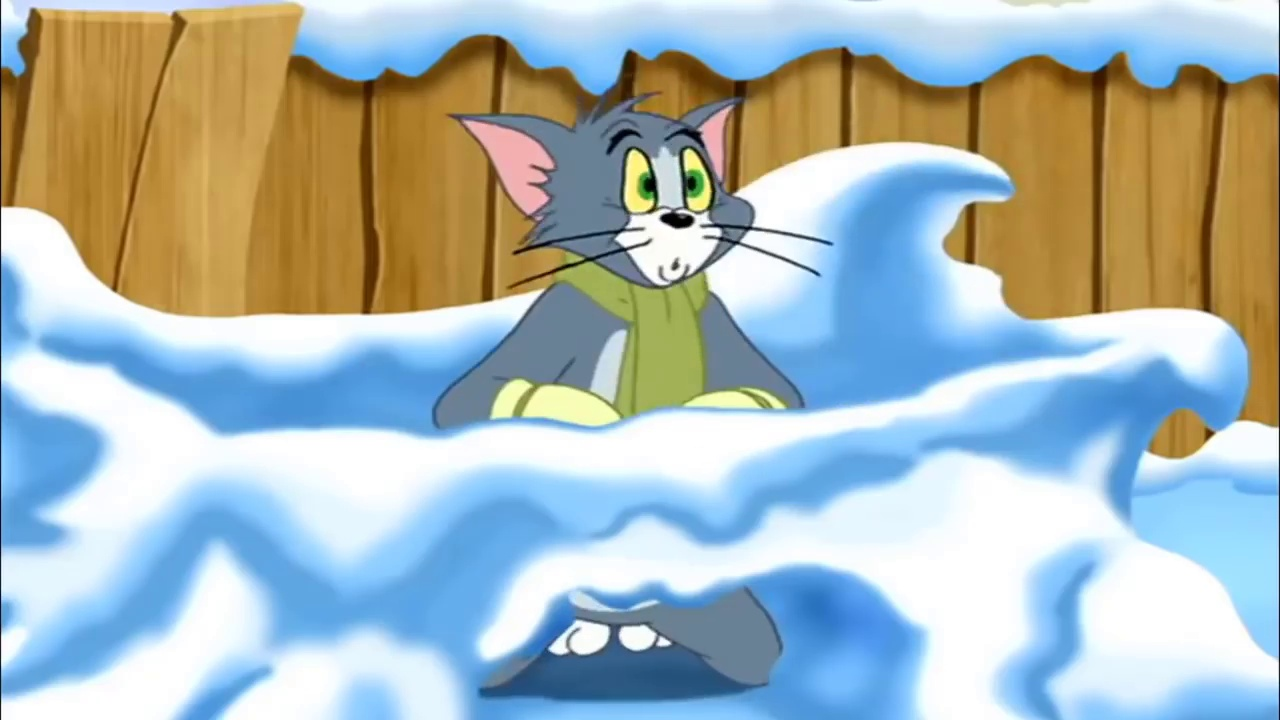face: (583, 117, 728, 289)
